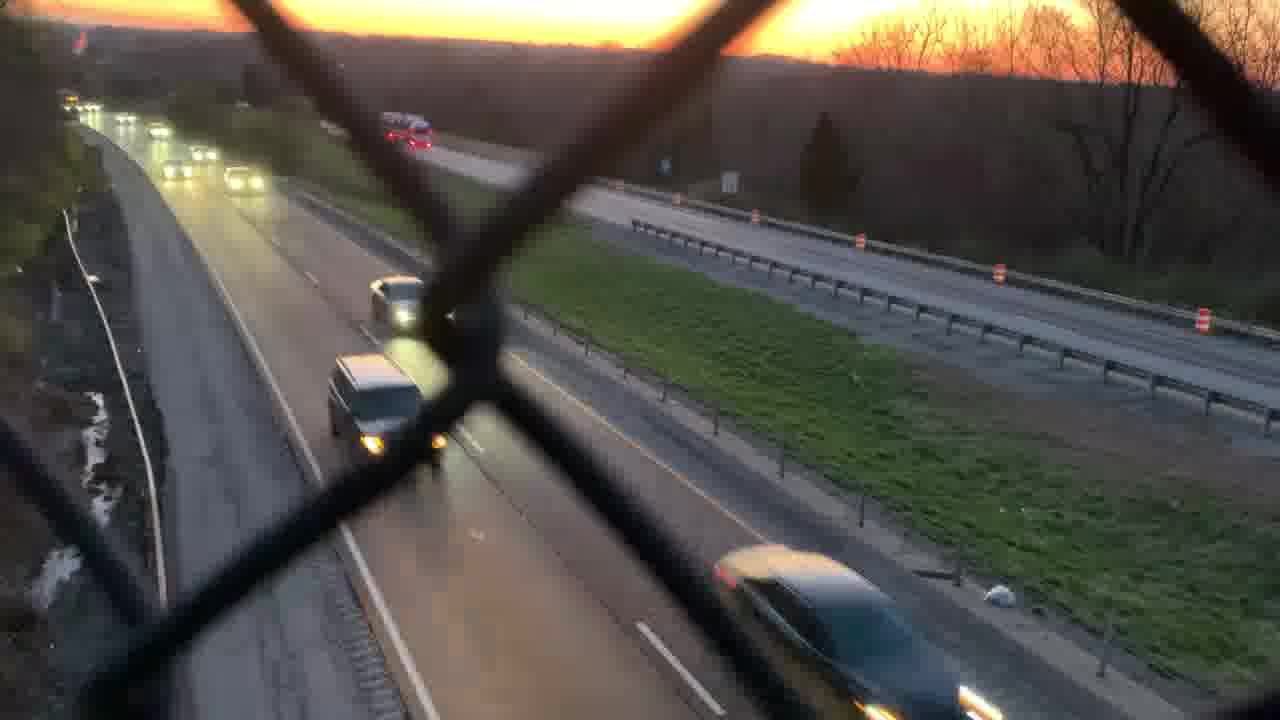largeCar: (321, 352, 459, 465)
smallCar: (712, 532, 1014, 720), (362, 267, 439, 337)
